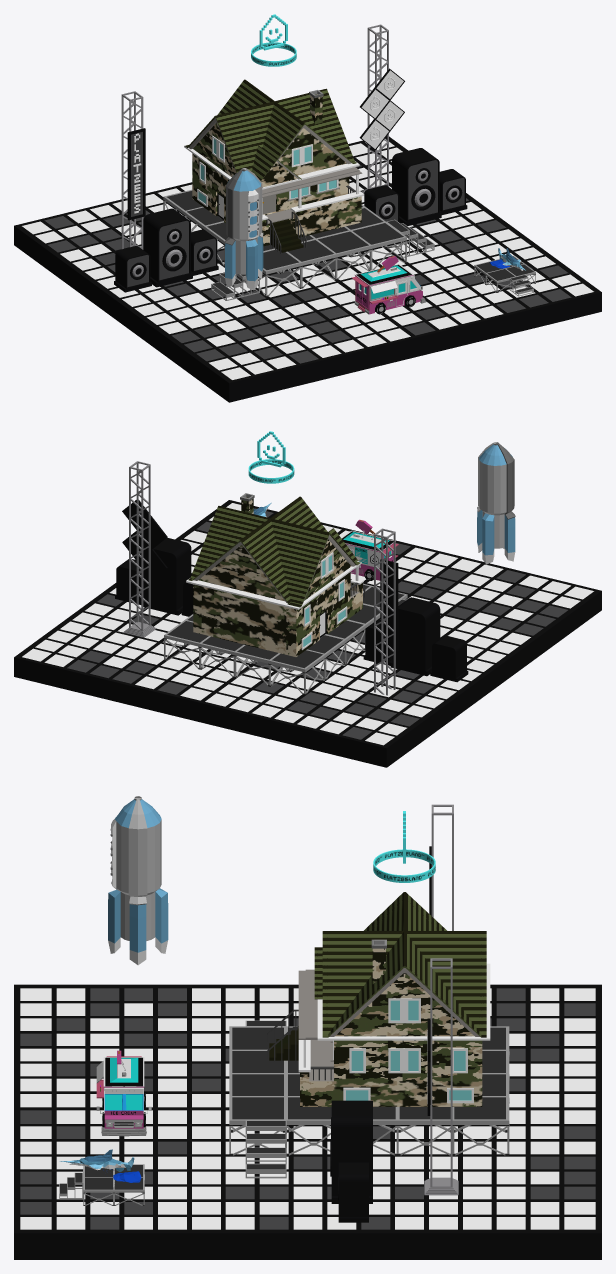
The picture shows the model from 3 angles, top to bottom: view 1: azimuth 30°, elevation 25°; view 2: azimuth 150°, elevation 25°; view 3: azimuth 270°, elevation 25°; orthographic projection. The views are drawn at different scales.
Parts seen in each view (by area): view 1: Cube.008, Cube.002, OBJRANDOM_ROCKETSHIP, VEHICLES_ICE_CREAM_TRUCK, TYPE_PREMIUM; view 2: Cube.008, Cube.002, OBJRANDOM_ROCKETSHIP, VEHICLES_ICE_CREAM_TRUCK, TYPE_PREMIUM; view 3: Cube.008, Cube.002, OBJRANDOM_ROCKETSHIP, VEHICLES_ICE_CREAM_TRUCK, TYPE_PREMIUM, ANIMAL_PEZ_ESPADA.
Part boxes in pixels (x1,y1,x2,y2): Cube.008: [14, 24, 601, 402]; Cube.002: [184, 79, 364, 253]; OBJRANDOM_ROCKETSHIP: [224, 168, 263, 290]; VEHICLES_ICE_CREAM_TRUCK: [352, 255, 425, 314]; TYPE_PREMIUM: [251, 14, 296, 66]; Cube.008: [14, 461, 601, 767]; Cube.002: [186, 493, 365, 656]; OBJRANDOM_ROCKETSHIP: [477, 442, 515, 564]; VEHICLES_ICE_CREAM_TRUCK: [341, 519, 398, 580]; TYPE_PREMIUM: [248, 431, 294, 483]; Cube.008: [14, 804, 601, 1259]; Cube.002: [267, 892, 490, 1106]; OBJRANDOM_ROCKETSHIP: [108, 796, 168, 965]; VEHICLES_ICE_CREAM_TRUCK: [96, 1050, 151, 1136]; TYPE_PREMIUM: [373, 811, 435, 882]; ANIMAL_PEZ_ESPADA: [59, 1149, 141, 1182].
Size of the model in its own units: 4000 by 2462 by 4000.
Materials: 50 (5 with a texture image).
